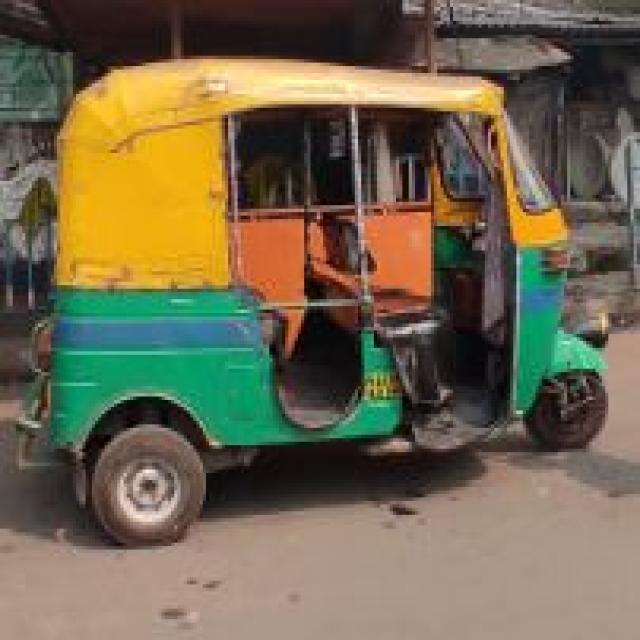autorickshaw: (38, 52, 618, 553)
